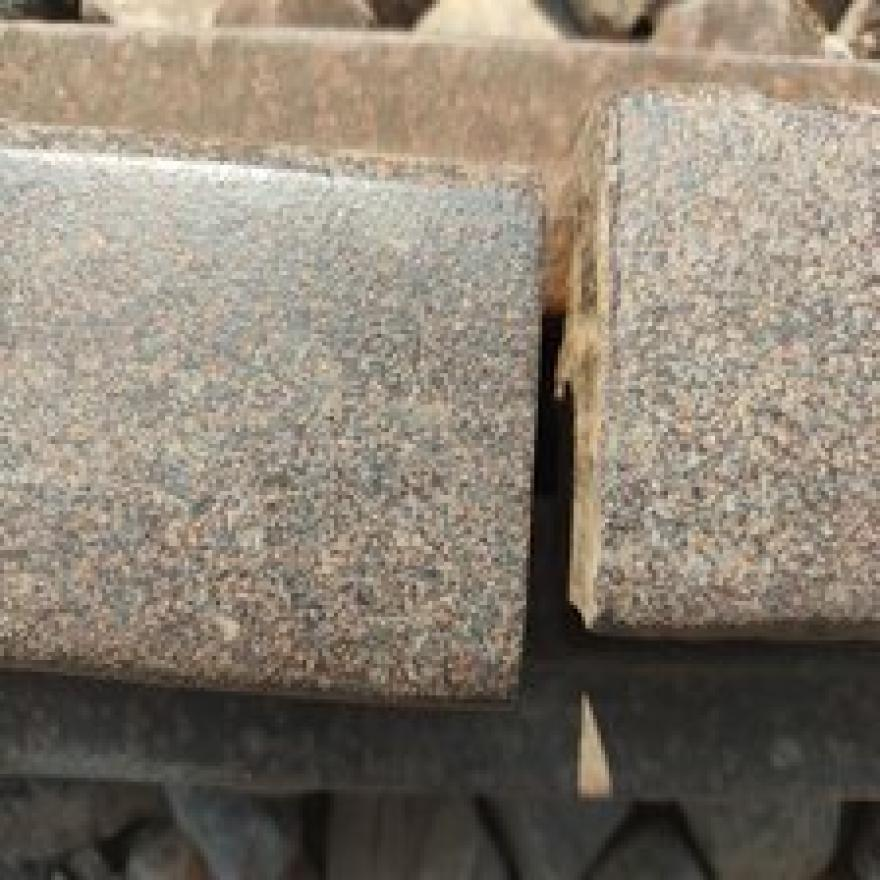railway-gap: (276, 40, 838, 851)
